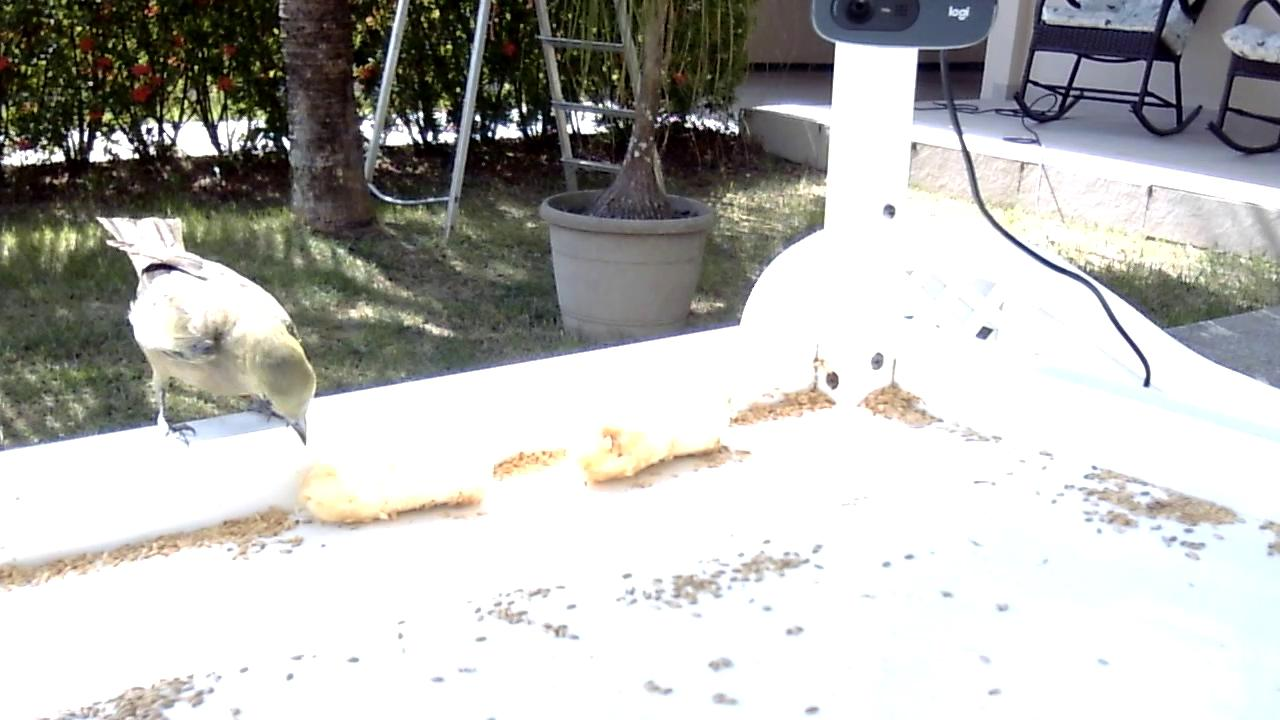sanhaco_do_coqueiro: (91, 213, 320, 452)
